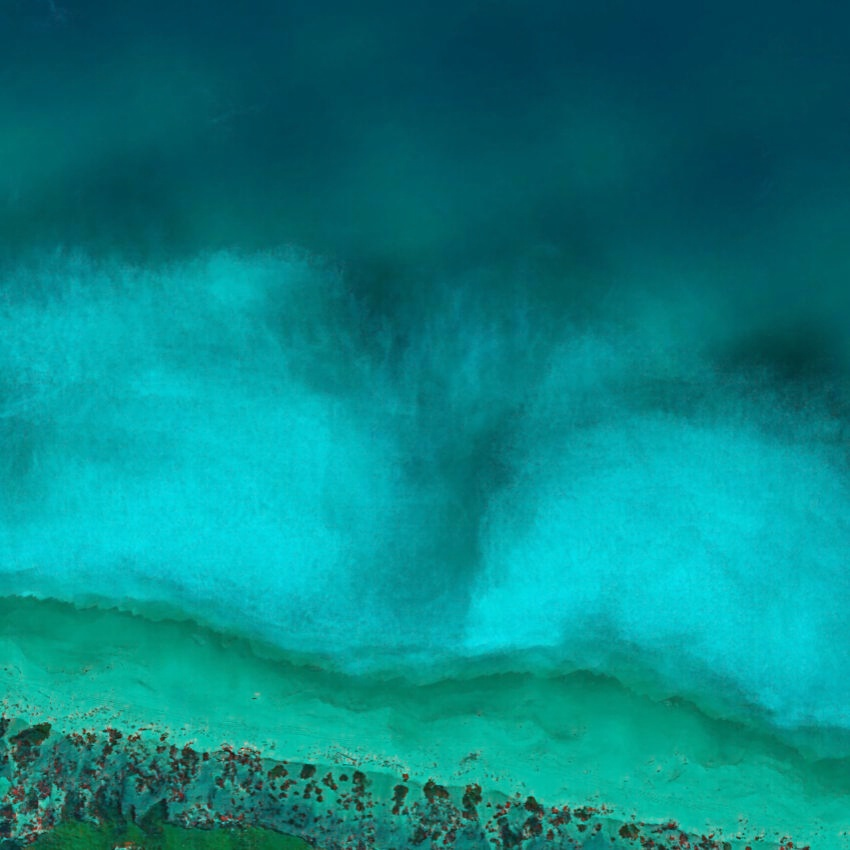rip_current: (291, 265, 571, 653)
